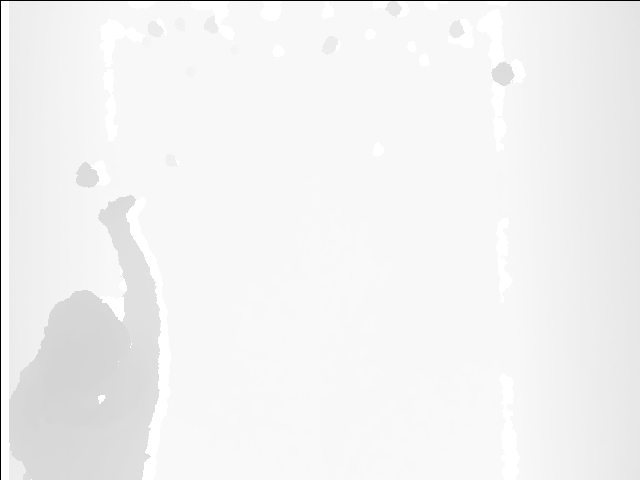hand: (98, 194, 136, 229)
